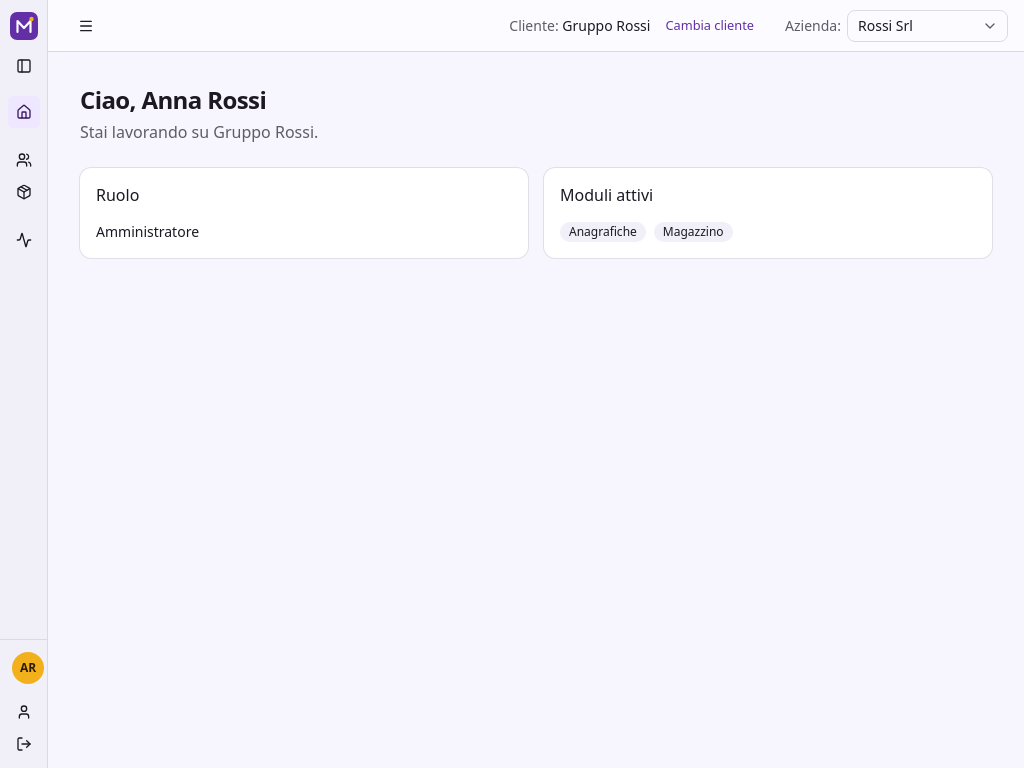
Test: app shell › on a tablet: icons only, and the whole menu in a panel over the content
Expected: the navigation bar named "Menu principale" is shown, [0,88,47,264]
Click the button named "Apri il menu" in the row of "Azienda": (86, 26) [64,4,108,48]
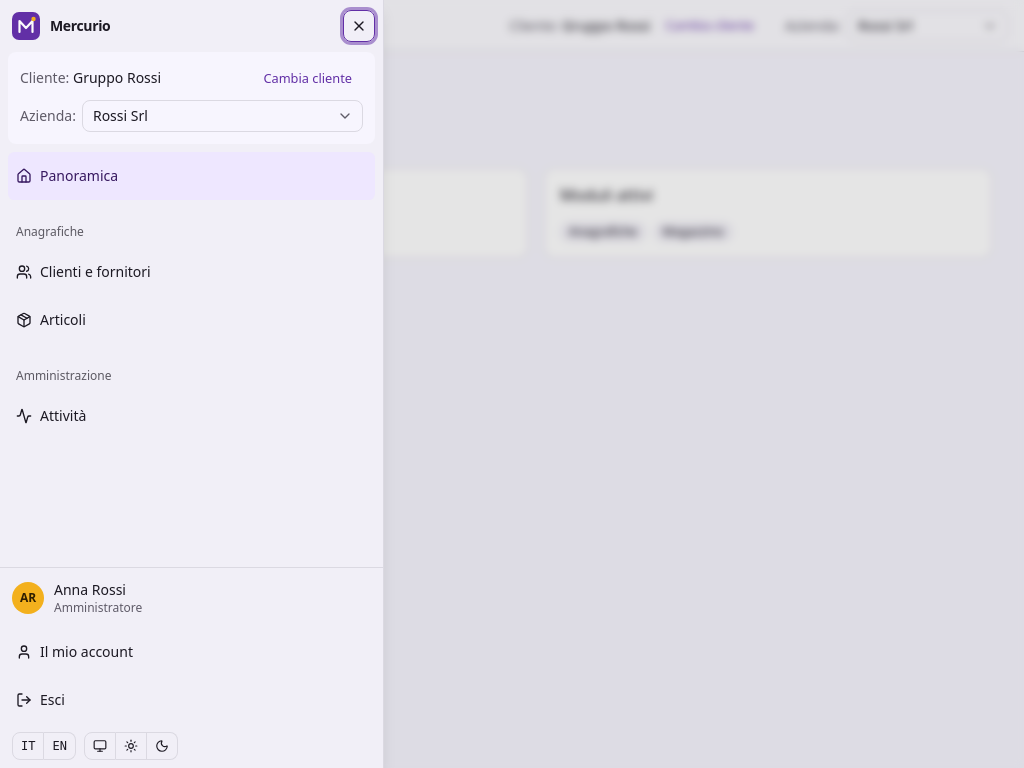
Result: the link "Articoli" is shown at [16,310,86,329]
